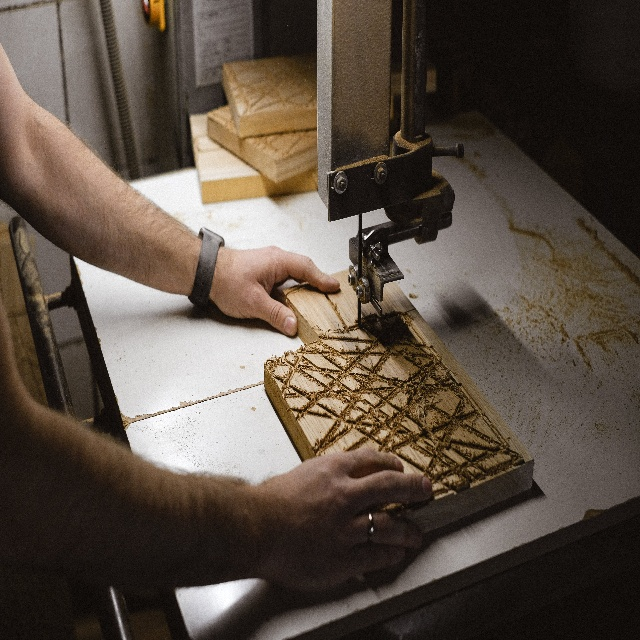Sin_guantes: (264, 446, 432, 597), (219, 242, 341, 339)
